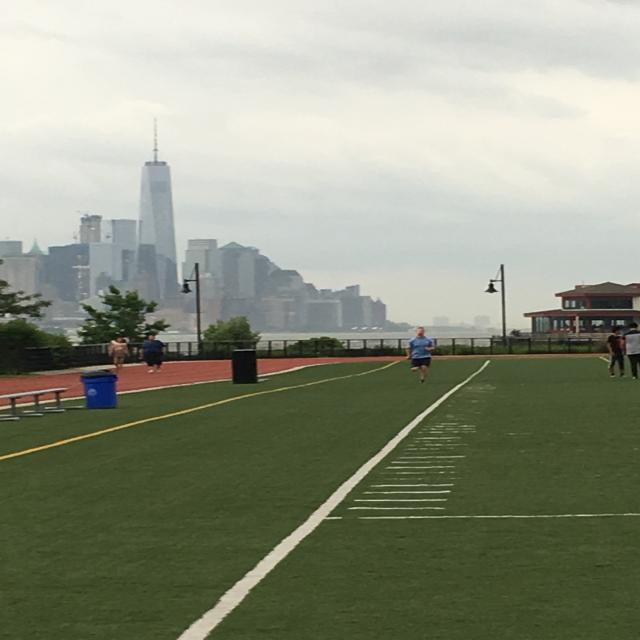WTC: (135, 114, 180, 288)
